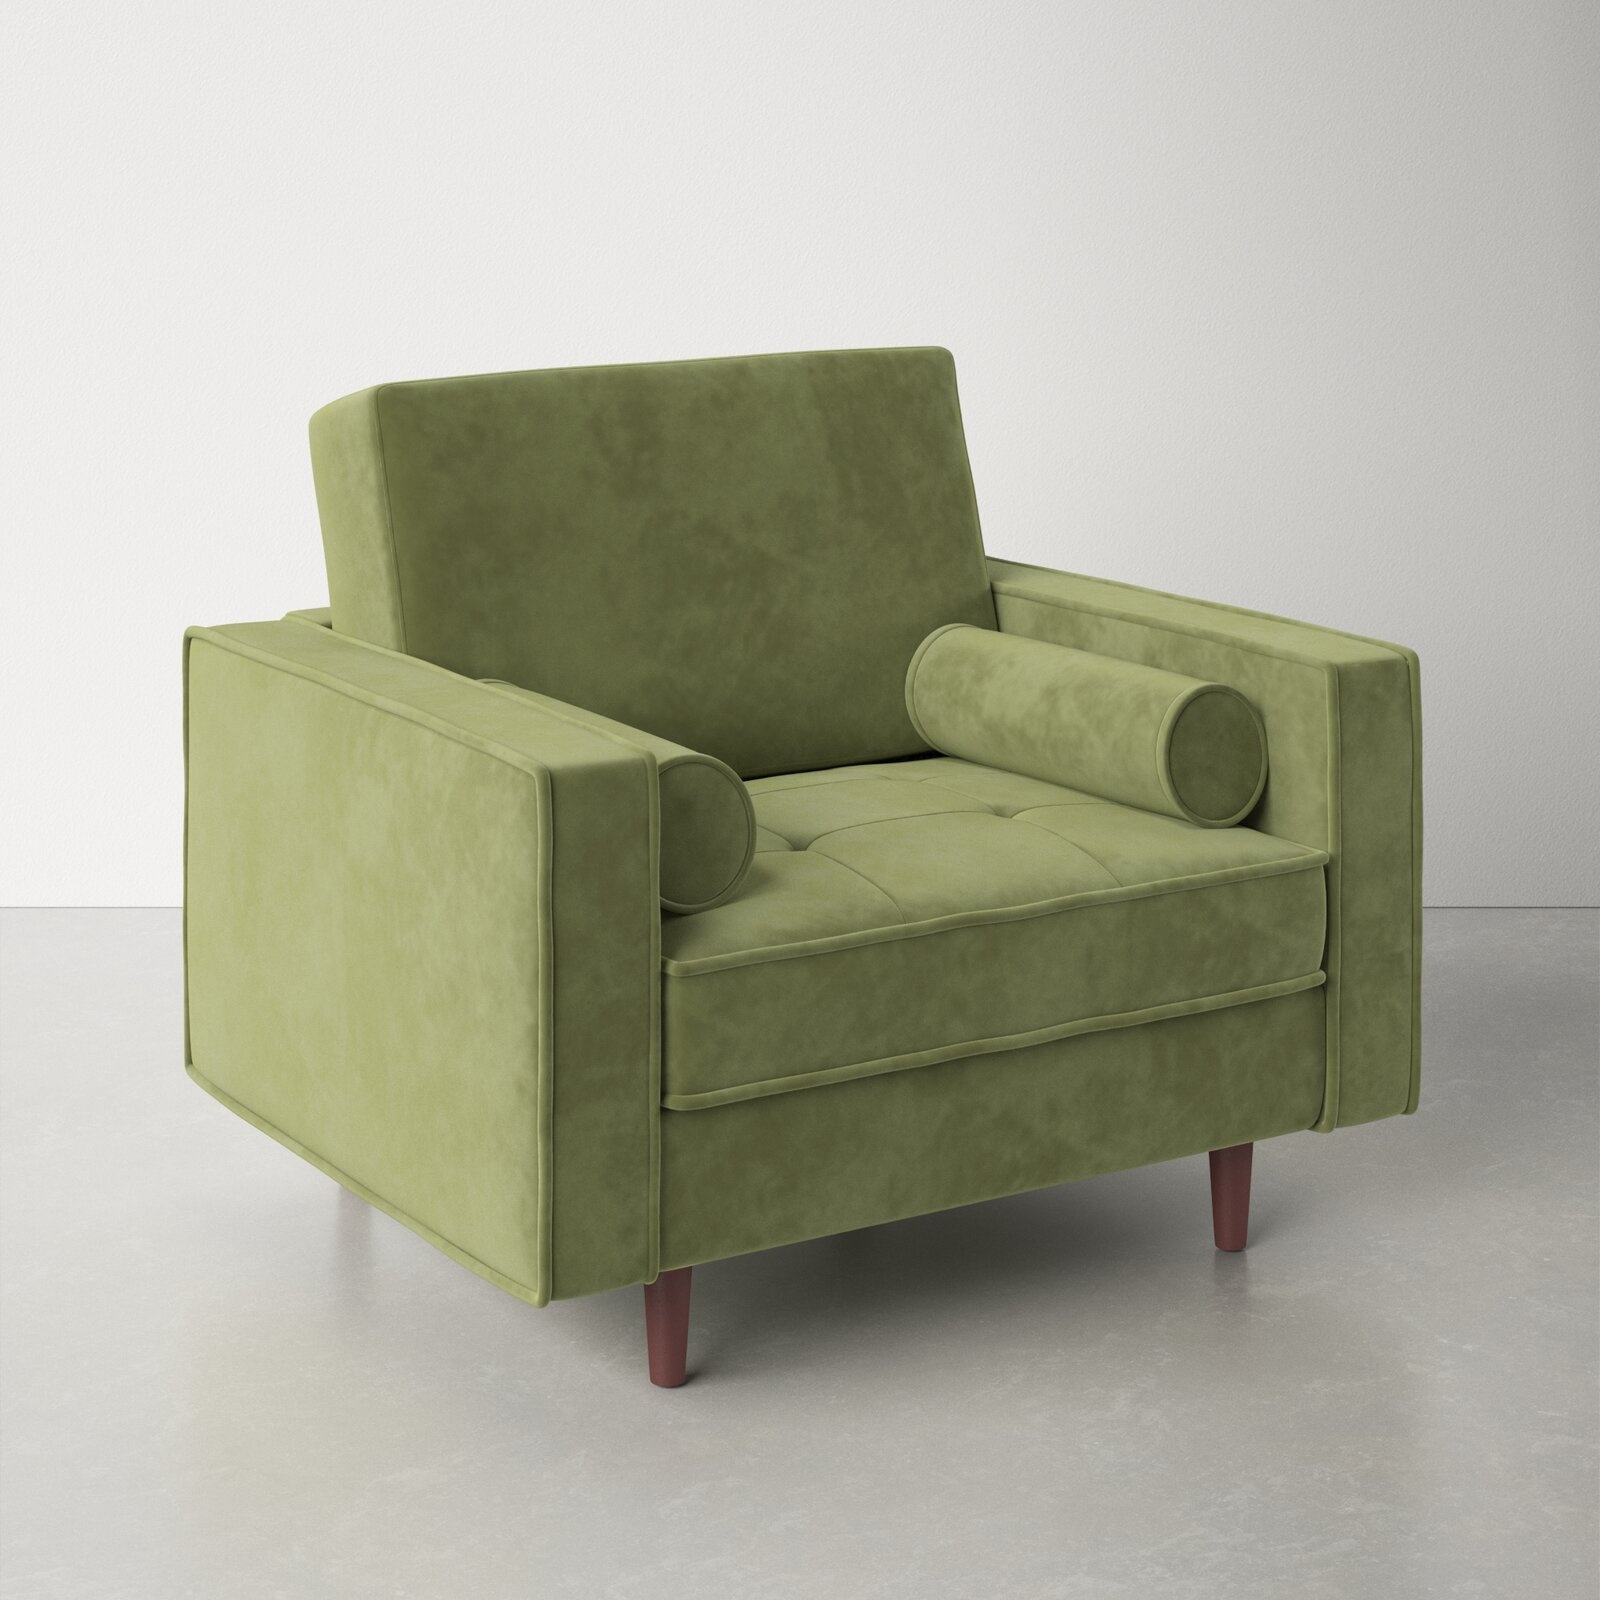obstacle: (186, 349, 1420, 1380)
